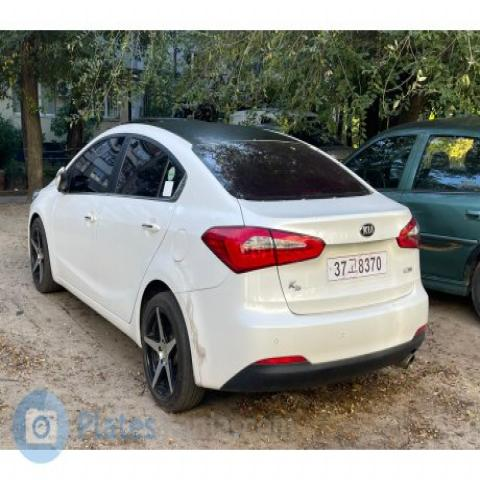LP: (325, 249, 388, 285)
